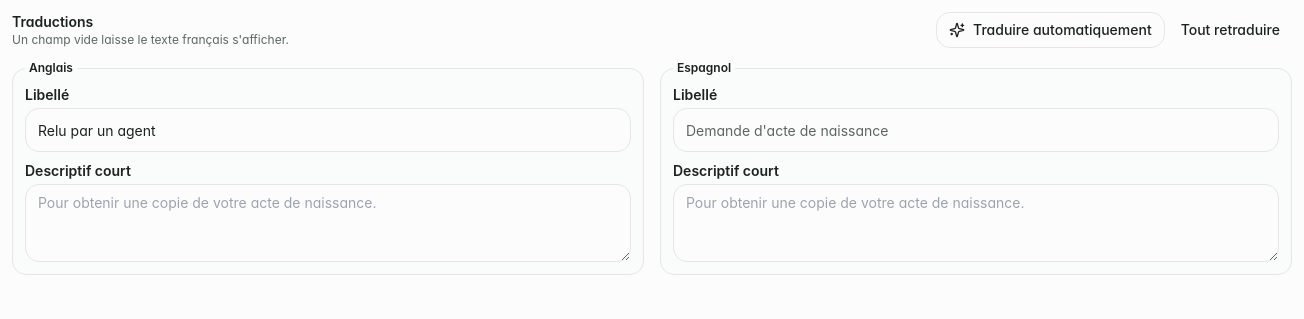
Test: TranslationFields — traduction automatique › pose les traductions reçues dans les cases vides, sans toucher aux autres
Click the button "Traduire automatiquement". click: (1050, 30)
box: [936, 12, 1165, 48]
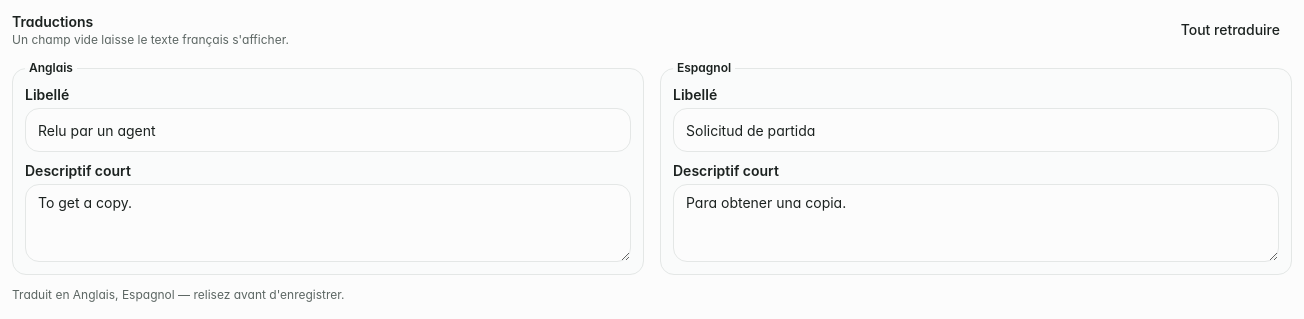
Expected: the 1st field labelled "Libellé" holds "Relu par un agent", [25, 108, 631, 152]
Expected: the 1st text box labelled "Descriptif court" holds "To get a copy.", [25, 184, 631, 262]
Expected: the 2nd field labelled "Libellé" holds "Solicitud de partida", [673, 108, 1279, 152]
